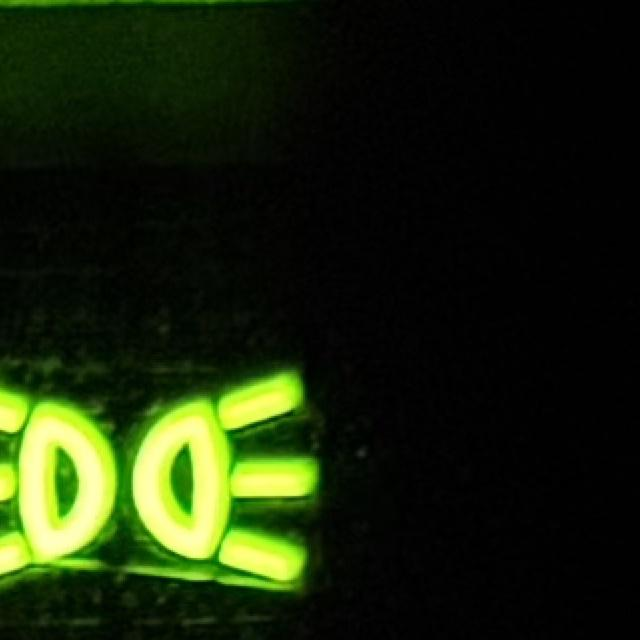Parking Light On: (1, 370, 323, 590)
